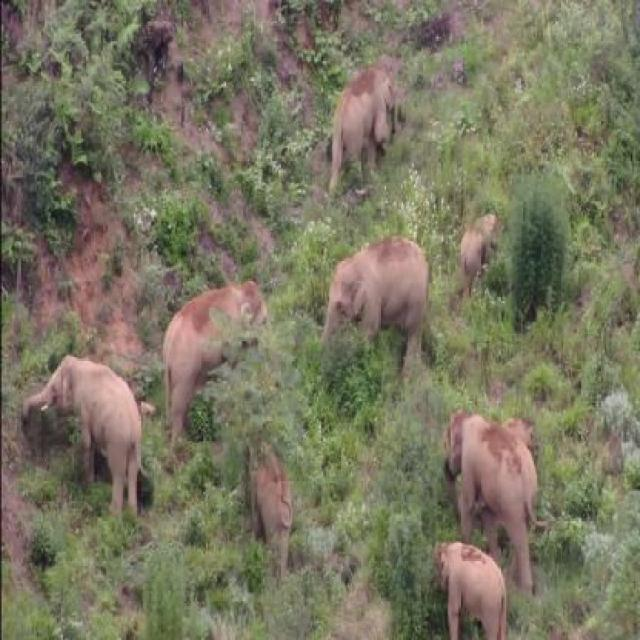elephant: (19, 334, 152, 538), (158, 261, 279, 465), (444, 406, 551, 588), (317, 222, 432, 386), (323, 40, 409, 200), (412, 523, 508, 640), (244, 434, 305, 589), (444, 196, 508, 290)
